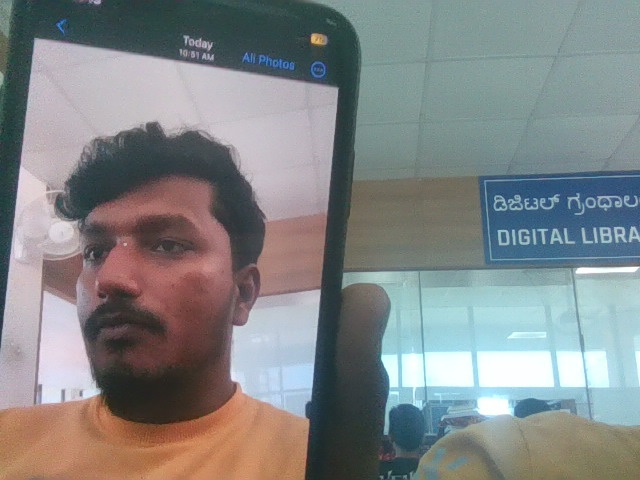fake: (46, 94, 270, 411)
